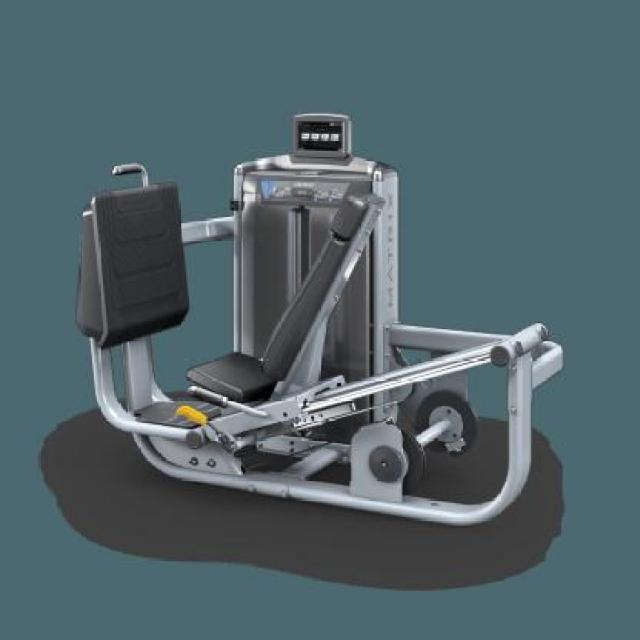leg press: (71, 94, 592, 551)
